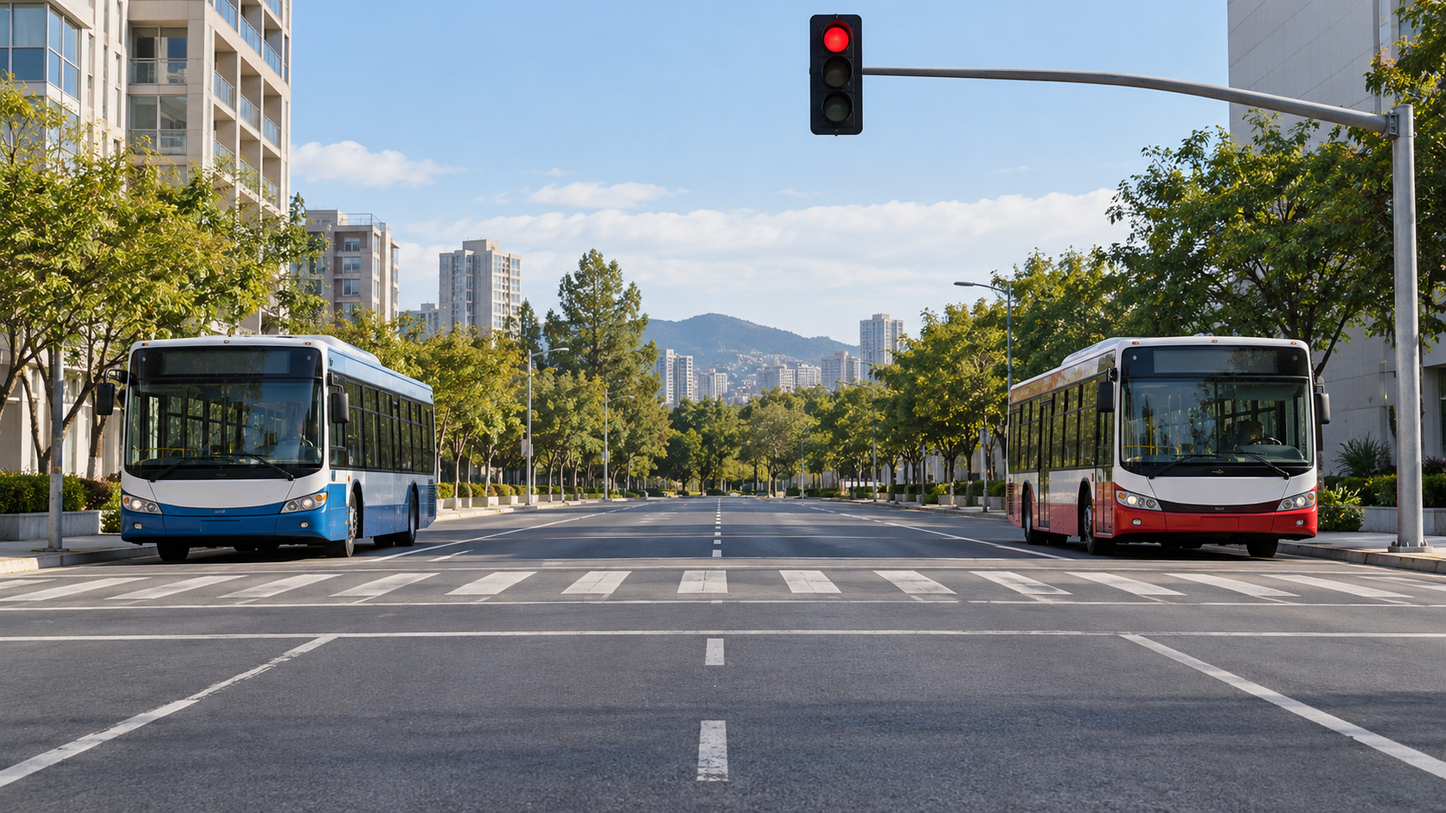bus: (95, 338, 434, 562), (1008, 337, 1332, 562)
traffic_light: (809, 15, 862, 135)
zebra_crossing: (0, 571, 1446, 612)
